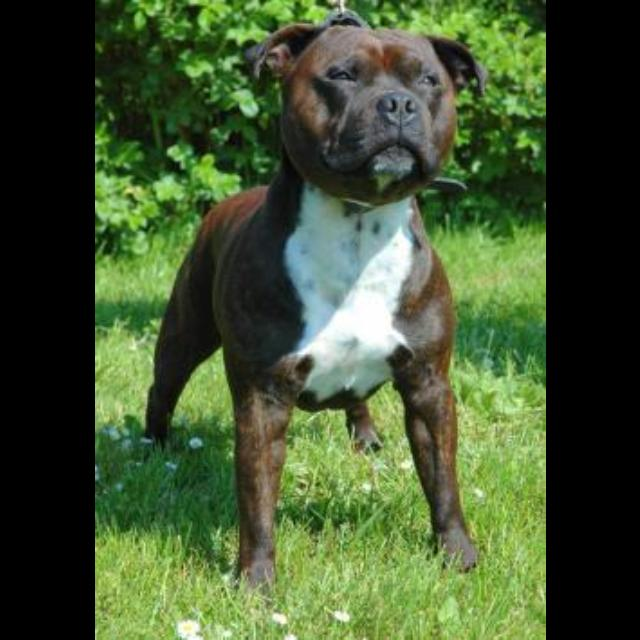staffford: (143, 11, 488, 600)
